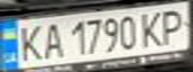0: (118, 11, 142, 51)
1: (66, 17, 87, 56)
7: (81, 16, 103, 54)
9: (100, 15, 124, 53)
A: (39, 19, 66, 60)
K: (12, 21, 48, 63), (136, 8, 169, 47)
P: (157, 6, 190, 46)
